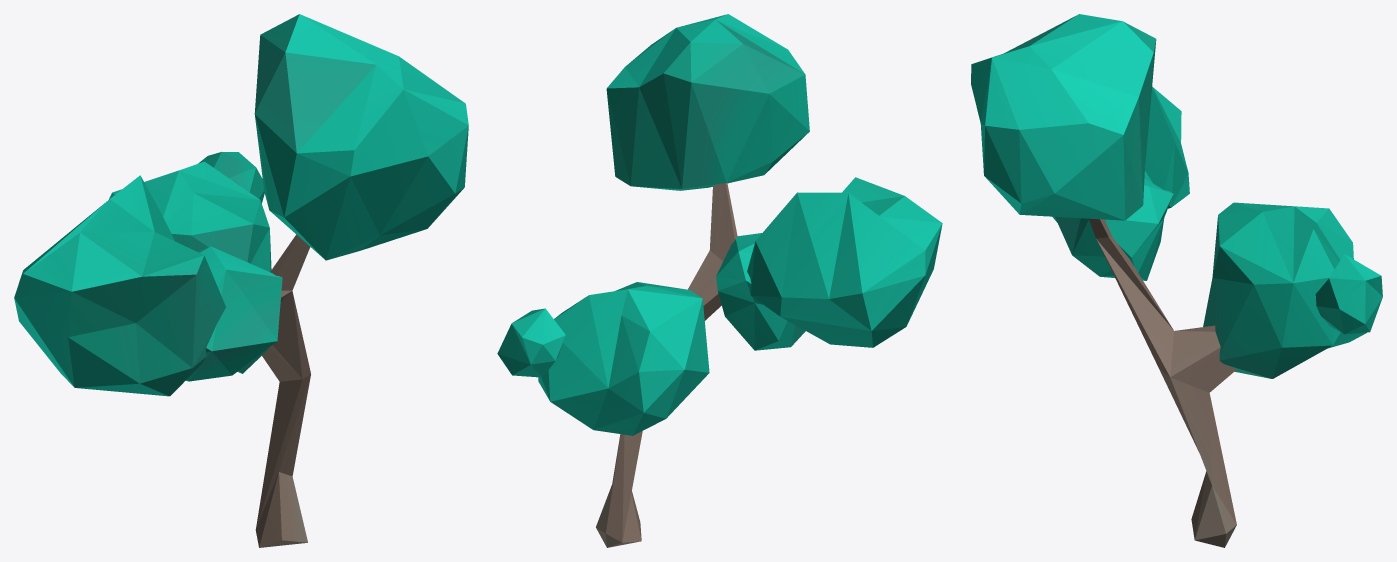
Rendered from Tree2.fbx.
3 views of the same model, side by side, from view 1: azimuth 30°, elevation 25°; view 2: azimuth 150°, elevation 25°; view 3: azimuth 270°, elevation 25° (orthographic). The views are drawn at different scales.
Parts seen in each view (by area): view 1: Icosphere.005; view 2: Icosphere.005; view 3: Icosphere.005.
Boxes of the visible parts, x1,y1,x2,y2 form: Icosphere.005: [14, 14, 468, 547]; Icosphere.005: [497, 14, 942, 547]; Icosphere.005: [971, 14, 1382, 547].
Size of the model in its own units: 836 by 1165 by 855.
1 material, 1 textured.
